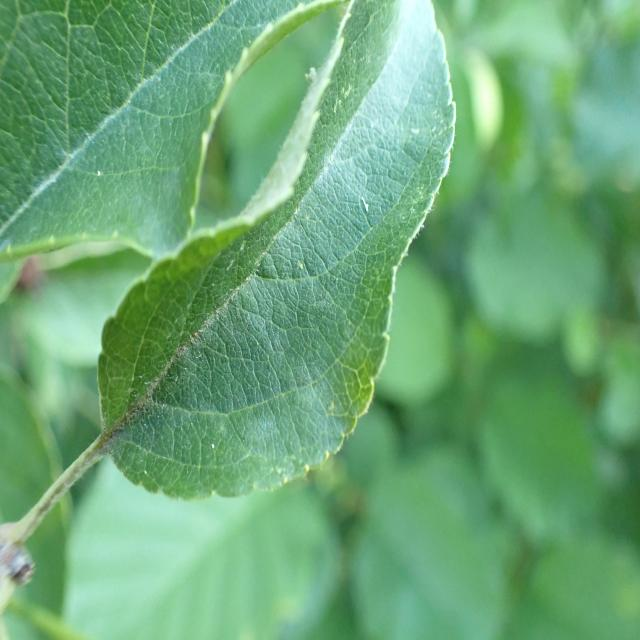Powdery_mildew: (104, 0, 458, 513)
